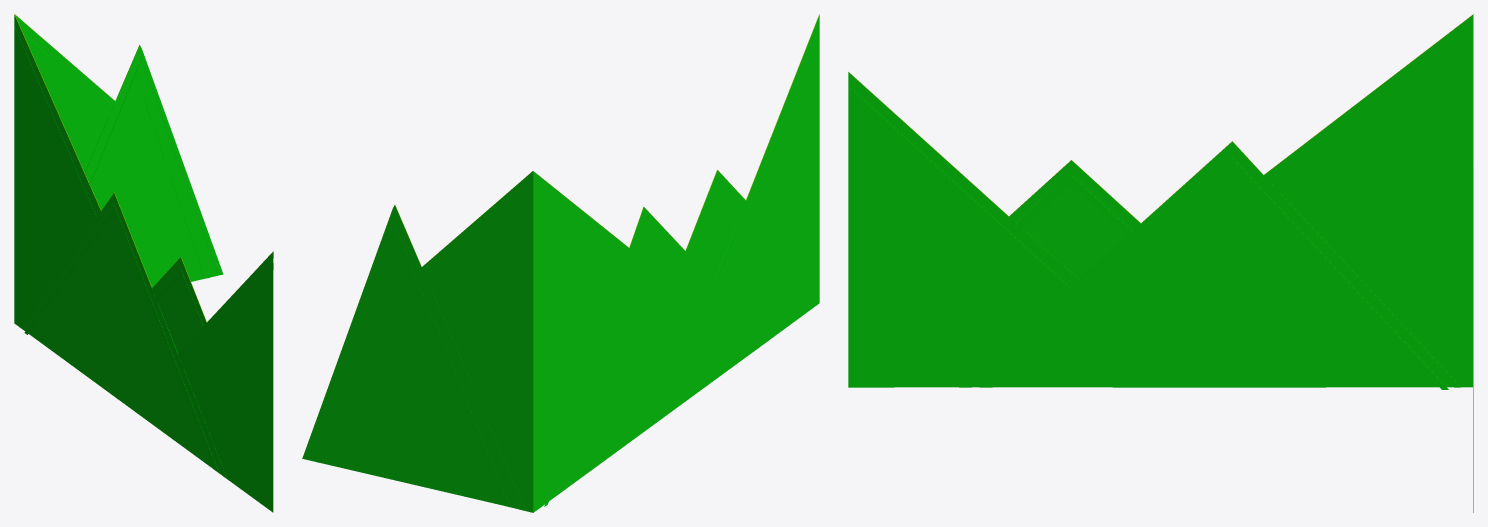
File: SM_RM2_MountainPanel.fbx
3 views of the same model, side by side, from view 1: azimuth 30°, elevation 25°; view 2: azimuth 150°, elevation 25°; view 3: azimuth 270°, elevation 25° (orthographic). The views are drawn at different scales.
Parts seen in each view (by area): view 1: SM_RM2_MountainPanel; view 2: SM_RM2_MountainPanel; view 3: SM_RM2_MountainPanel.
Boxes of the visible parts, x1,y1,x2,y2 form: SM_RM2_MountainPanel: [14, 14, 273, 512]; SM_RM2_MountainPanel: [302, 14, 819, 512]; SM_RM2_MountainPanel: [848, 14, 1473, 512].
Bounding box in the file's own units: 99.3 × 141 × 213.
